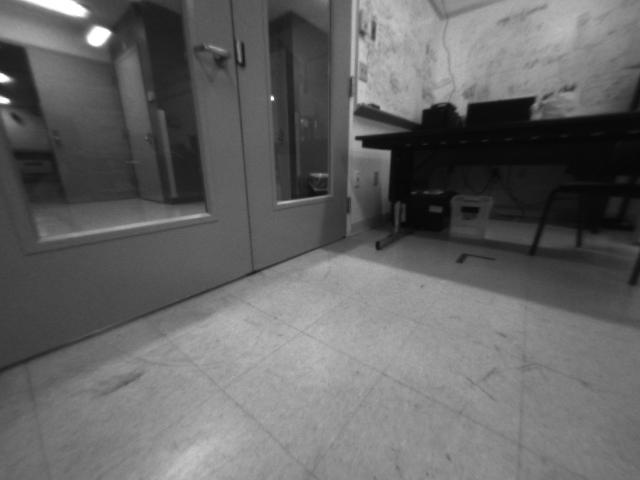door_handle: (187, 38, 233, 71)
